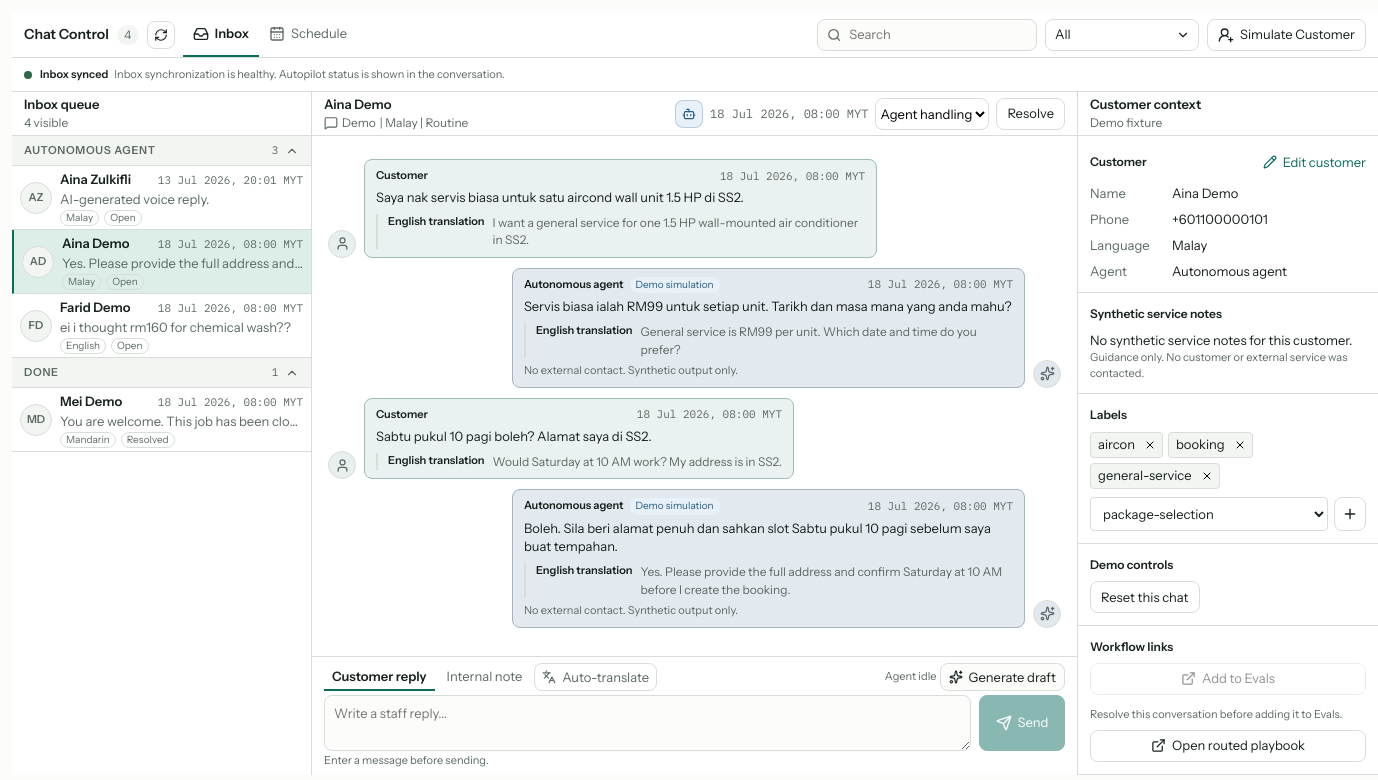
Test: Chat Control route › renders a reload-safe sent voice message with server-backed playback
The image size is (1378, 780).
Click the button with aria-label "Open conversation with Aina Zulkifli": point(162, 198) 12,166 -> 311,230
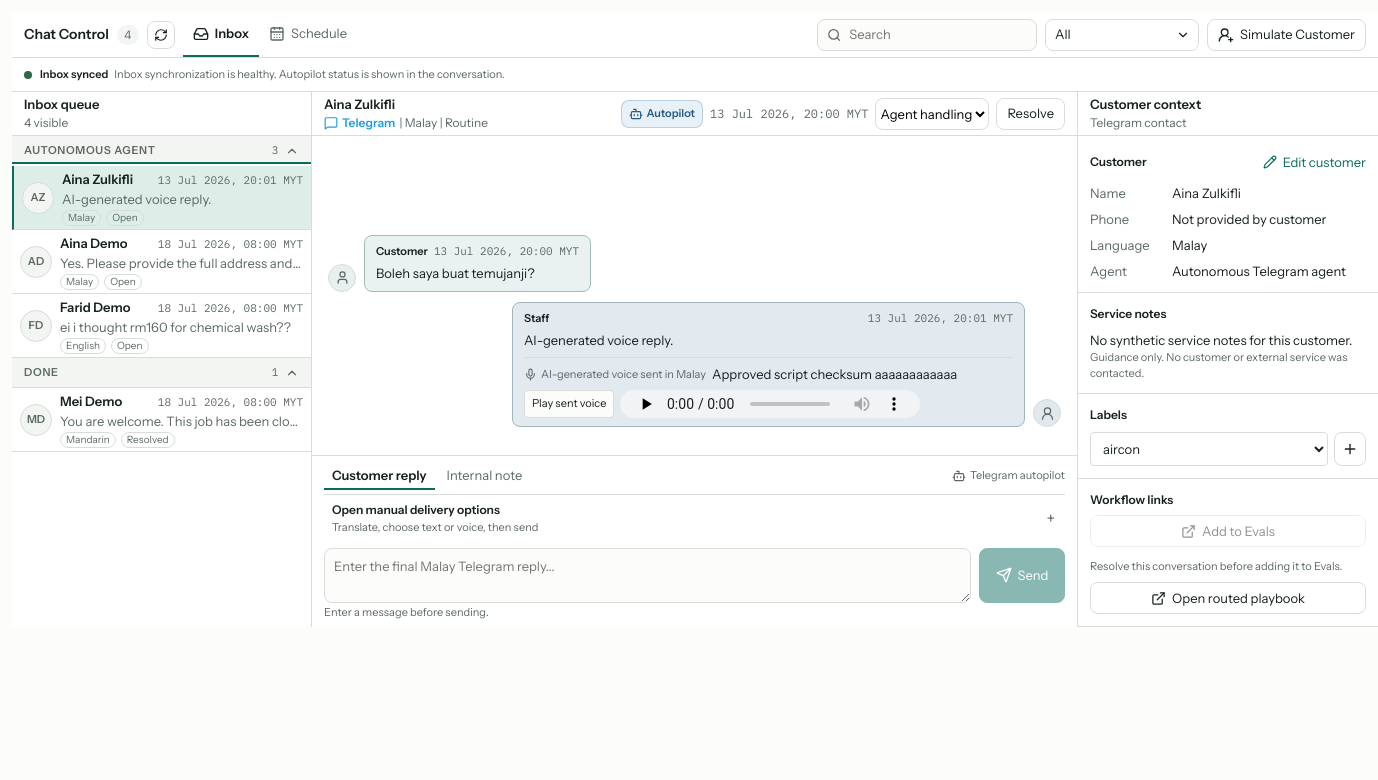
Result: the text "AI-generated voice sent in Malay" is shown at 541,367 -> 706,383
Result: the text "Approved script checksum aaaaaaaaaaaa" is shown at 712,365 -> 957,384
Result: the button "Play sent voice" is shown at 524,390 -> 614,418
